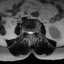CCS_normal: (29, 29, 31, 38)
LFS_normal: (33, 28, 36, 34)
LLS_normal: (31, 29, 33, 36)
RFS_normal: (25, 28, 27, 34)
RLS_normal: (27, 29, 29, 36)
